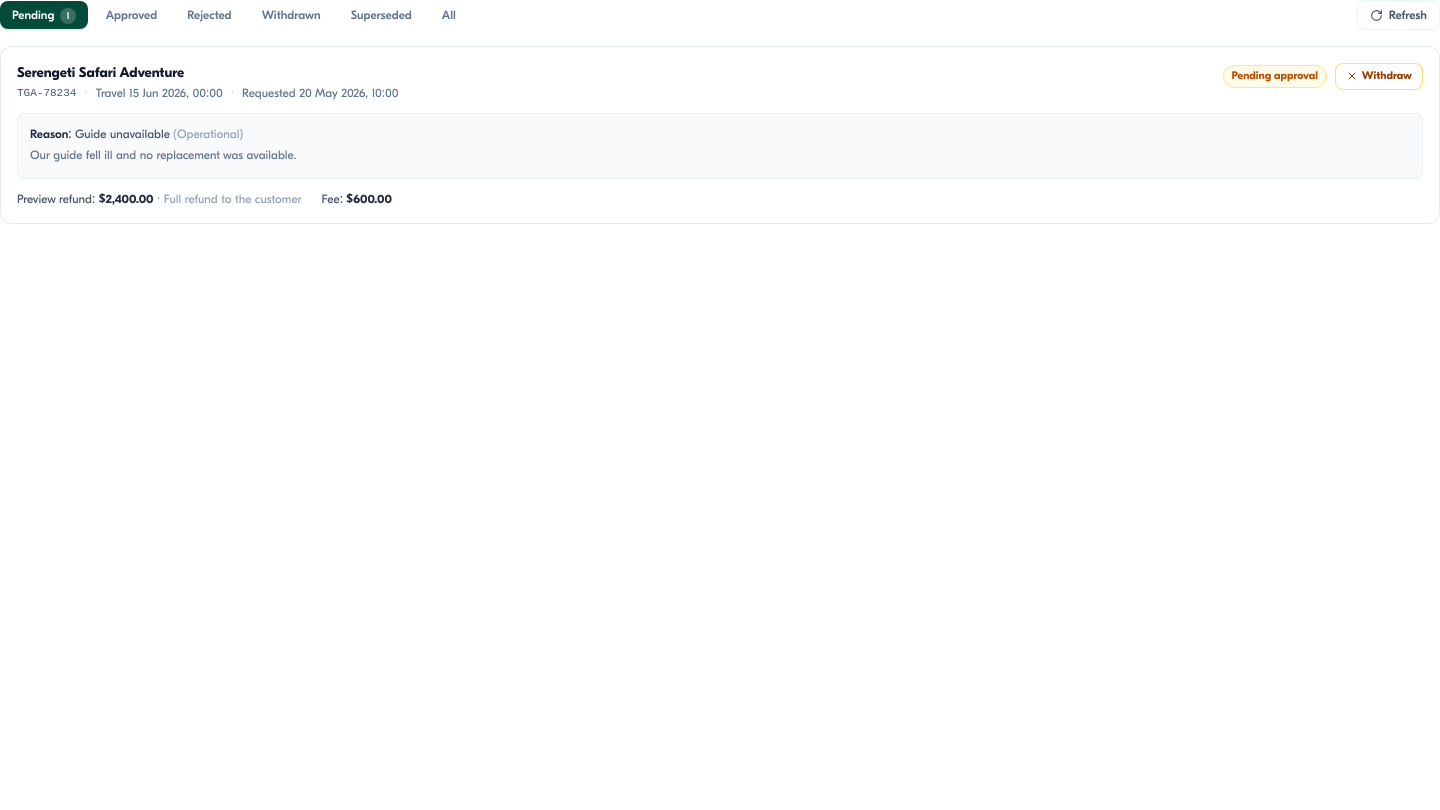
Test: CancellationRequestsPanel › lists pending requests with reason/preview and withdraws one
The image size is (1440, 810).
Expected: the number of elements with test id "cancellation-request-row" is 1, 0,46 -> 1439,224
Expected: the text "Serengeti Safari Adventure" is shown, 17,64 -> 184,81
Step 1. Click the button "Withdraw" → (1379, 76), box 1335,63 -> 1423,90
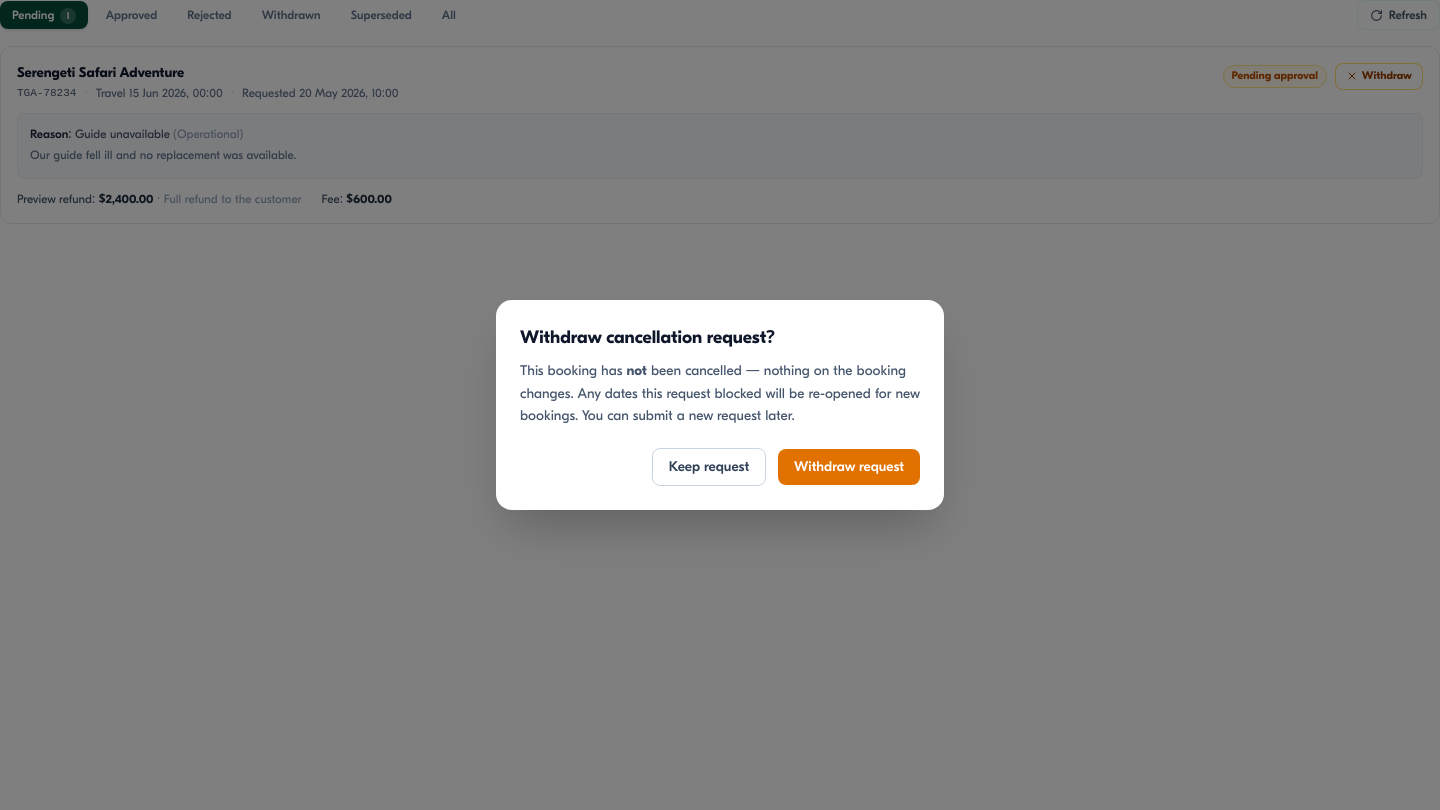
Step 2. Click the button "Withdraw request" → (849, 467), box 778,449 -> 920,485
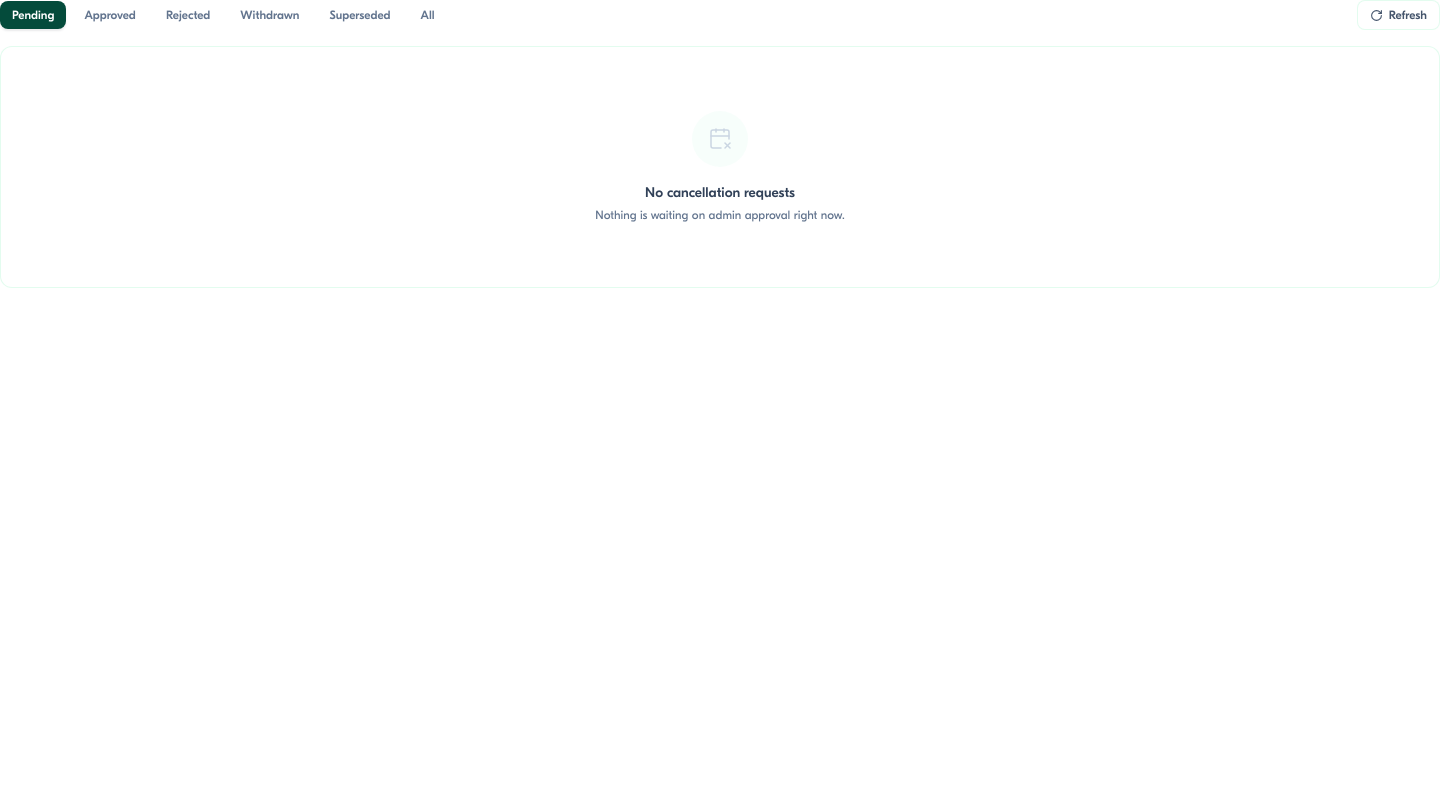
Result: the text "No cancellation requests" is shown at 645,183 -> 795,203
